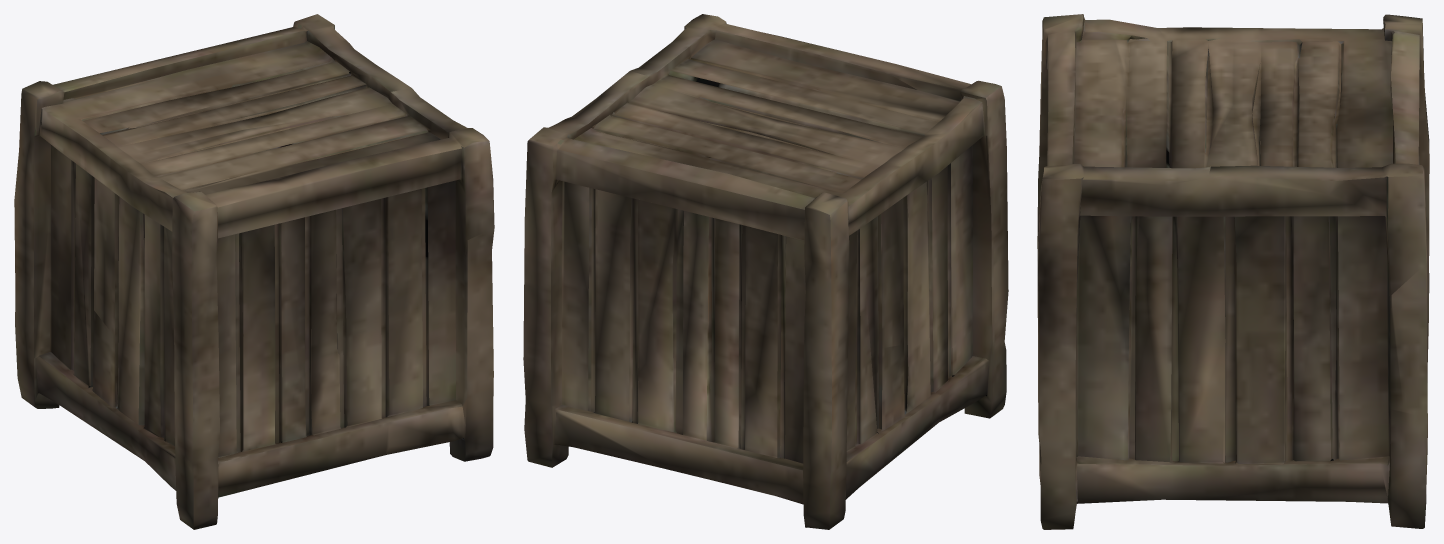
Rendered from old-wood-crate-v001.glb.
3 views of the same model, side by side, from view 1: azimuth 30°, elevation 25°; view 2: azimuth 150°, elevation 25°; view 3: azimuth 270°, elevation 25° (orthographic). The views are drawn at different scales.
Parts seen in each view (by area): view 1: old-wood-crate; view 2: old-wood-crate; view 3: old-wood-crate.
Boxes of the visible parts, x1,y1,x2,y2 form: old-wood-crate: (14,14,494,529); old-wood-crate: (523,14,1008,529); old-wood-crate: (1037,14,1429,529).
Bounding box in the file's own units: 0.8171 × 0.8299 × 0.8179.
1 material, 1 textured.
